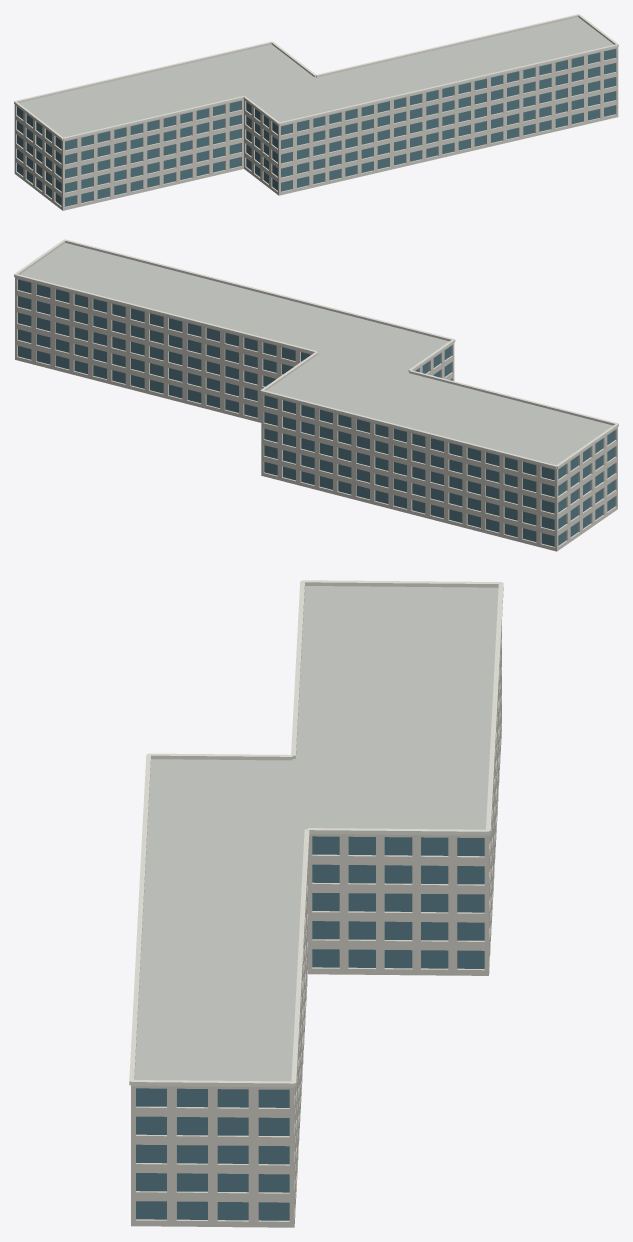
File: sb_569007914.far.glb
3 views of the same model, one above another, from view 1: azimuth 30°, elevation 25°; view 2: azimuth 150°, elevation 25°; view 3: azimuth 270°, elevation 25° (orthographic). The views are drawn at different scales.
Visible parts, largest first — view 1: wall, roof, glass, trim; view 2: roof, wall, glass, trim; view 3: roof, wall, glass, trim.
Part boxes in pixels (x1,y1,x2,y2): wall: [14, 47, 618, 210]; roof: [19, 17, 613, 137]; glass: [17, 49, 615, 206]; trim: [14, 14, 618, 140]; roof: [20, 243, 612, 465]; wall: [15, 277, 617, 551]; glass: [18, 279, 615, 546]; trim: [14, 239, 618, 468]; roof: [134, 586, 498, 1081]; wall: [131, 623, 501, 1227]; glass: [136, 836, 484, 1220]; trim: [129, 580, 503, 1087].
Bounding box in the file's own units: 122 × 16.34 × 38.27.
